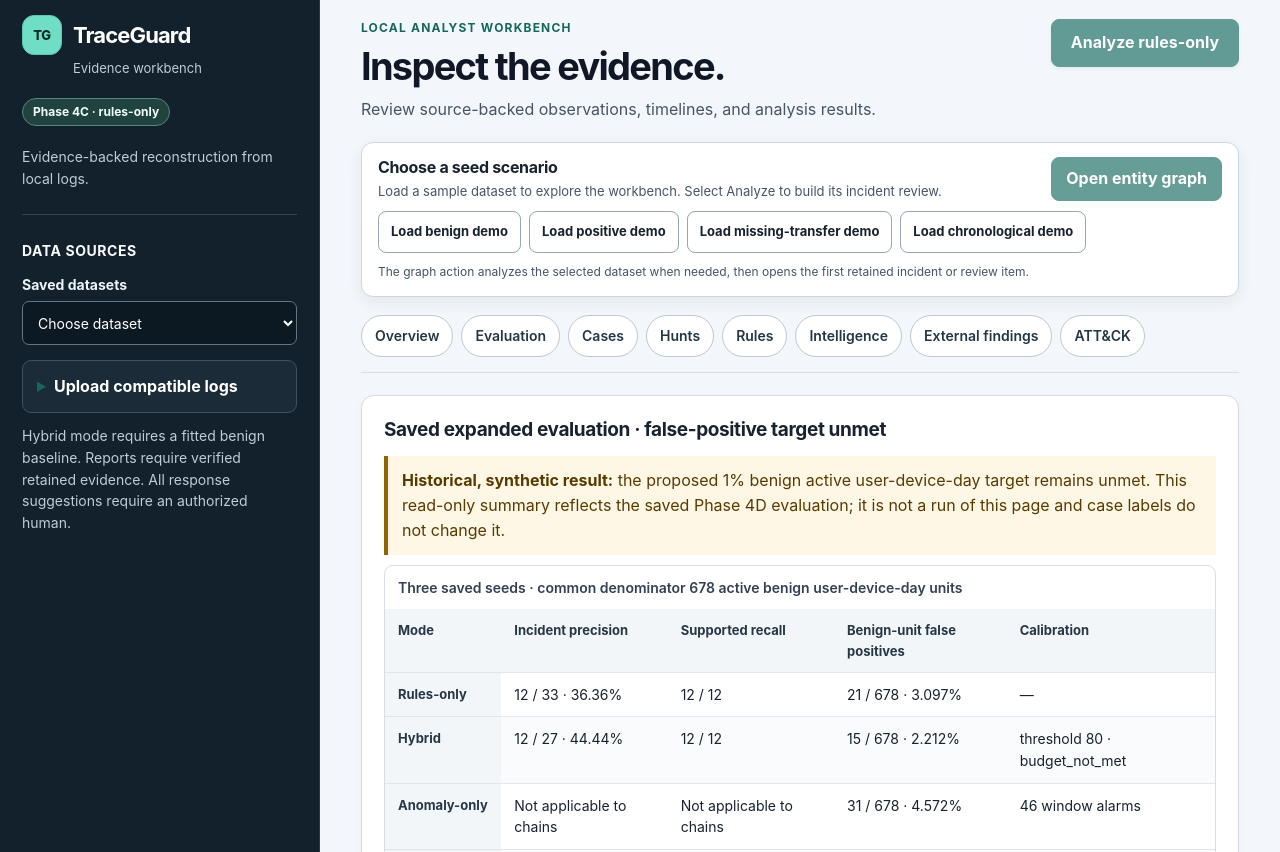
Scenario: Phase 1 workbench › requires a fitted baseline before enabling hybrid analysis
Click the button "Load positive demo": coordinates (604, 232) left=529, top=211, right=679, bottom=253
(page scrolled)
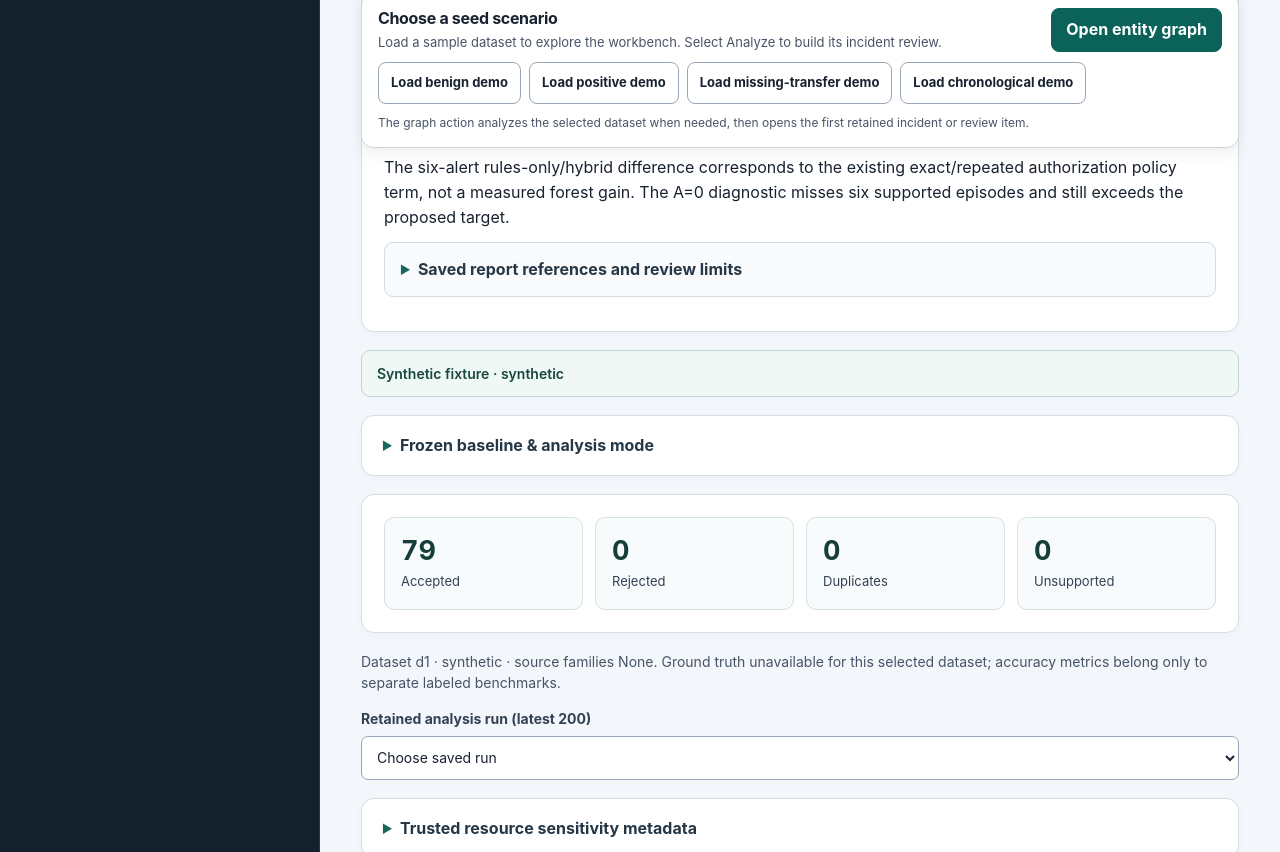
Click the heading "Frozen baseline & analysis mode": coordinates (527, 445) left=400, top=435, right=654, bottom=455
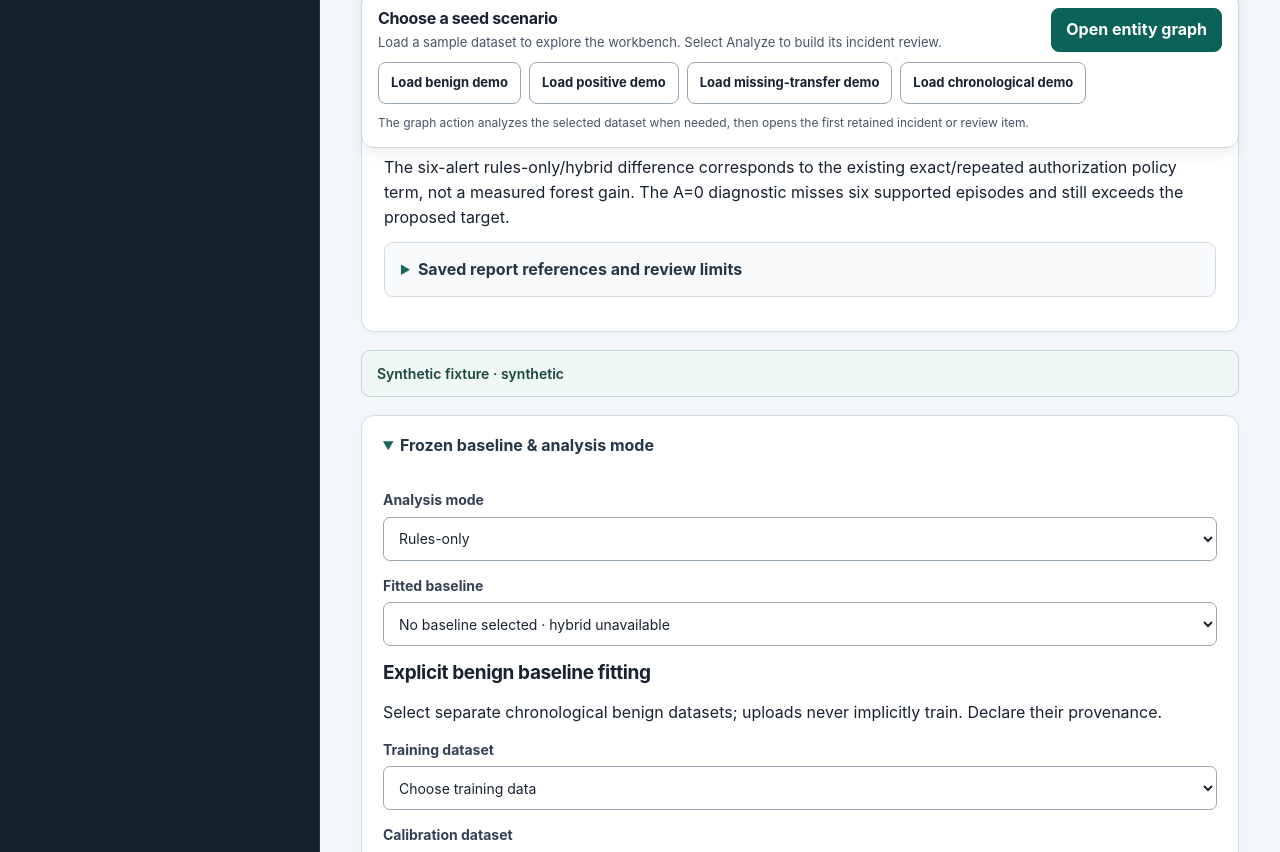
Select "Hybrid (Isolation Forest + rules + graph)" in the dropdown labelled "Analysis mode": coordinates (800, 539) left=383, top=517, right=1217, bottom=561
(page scrolled)
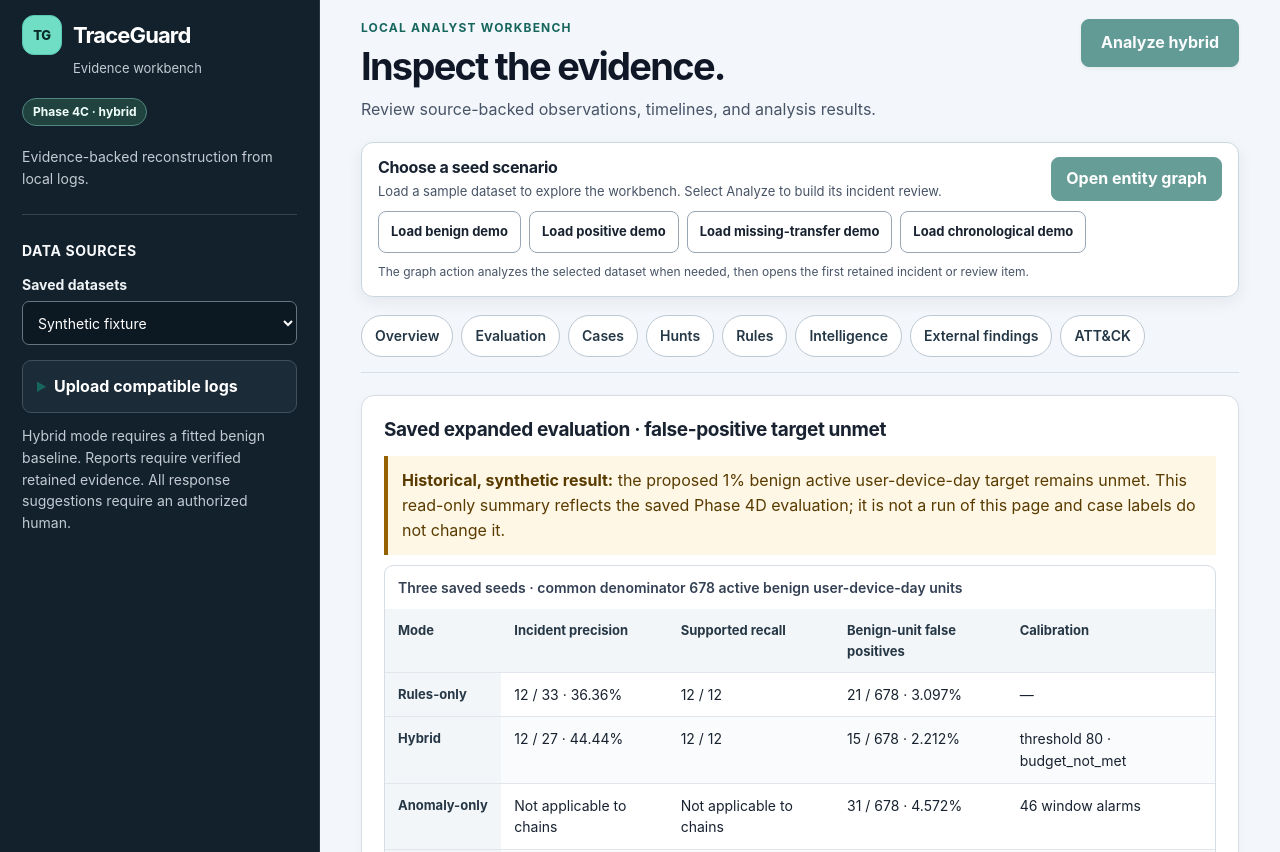
Expected: the button "Analyze hybrid" is disabled, left=1081, top=19, right=1239, bottom=67
Expected: the text "Phase 4C · hybrid" is shown, left=22, top=98, right=148, bottom=126
